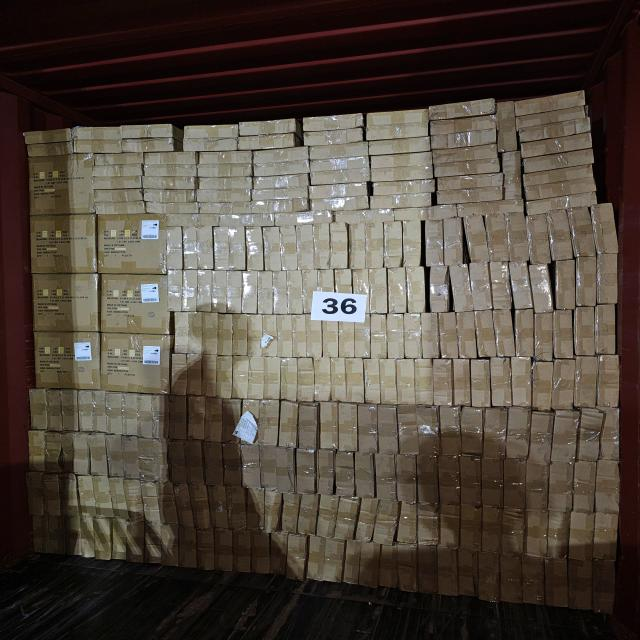Carton: (102, 332, 174, 392), (102, 274, 172, 334), (96, 213, 164, 274), (31, 216, 100, 276), (28, 156, 94, 215), (34, 272, 92, 330), (36, 331, 84, 388), (311, 144, 373, 184), (367, 112, 431, 143), (516, 88, 586, 116), (70, 332, 100, 390), (588, 203, 622, 254), (528, 192, 600, 216), (310, 186, 370, 214), (314, 537, 346, 583), (551, 412, 579, 464), (590, 558, 616, 613), (594, 459, 620, 514), (368, 147, 432, 169), (548, 462, 574, 514), (578, 410, 604, 462), (530, 410, 556, 462), (464, 214, 492, 262), (597, 354, 621, 408), (530, 206, 554, 260), (140, 394, 168, 440), (483, 408, 508, 458), (574, 461, 598, 513), (502, 460, 526, 512), (570, 512, 596, 560), (590, 515, 616, 563), (568, 559, 592, 611), (596, 255, 620, 307), (552, 358, 576, 408), (508, 410, 532, 460), (478, 552, 502, 602), (459, 408, 483, 458), (528, 462, 552, 512), (546, 558, 570, 608), (507, 210, 531, 260), (487, 212, 511, 262), (140, 441, 168, 483), (501, 555, 525, 603), (302, 112, 366, 130), (489, 356, 512, 406), (438, 547, 461, 597), (576, 356, 598, 408), (338, 316, 364, 360), (482, 457, 504, 508), (370, 178, 435, 195), (502, 508, 526, 554), (524, 512, 548, 558), (548, 514, 571, 562), (272, 448, 296, 494), (306, 536, 330, 582), (278, 224, 302, 270), (439, 456, 461, 506), (512, 358, 534, 408), (440, 408, 462, 458), (356, 402, 378, 452), (554, 260, 576, 310), (398, 544, 420, 594), (532, 361, 554, 411), (595, 304, 617, 354), (522, 556, 544, 606), (462, 458, 484, 508), (418, 406, 440, 455), (417, 456, 439, 505), (573, 309, 595, 358), (285, 534, 307, 582), (396, 454, 418, 502), (226, 224, 248, 272), (374, 501, 399, 543), (418, 544, 438, 596), (492, 312, 514, 359), (471, 358, 492, 407), (430, 266, 452, 312), (530, 265, 552, 311), (374, 456, 396, 502), (448, 266, 470, 312), (259, 401, 281, 447), (358, 542, 380, 588), (444, 220, 466, 266), (399, 406, 420, 454), (491, 263, 512, 311), (378, 405, 398, 455), (578, 258, 598, 308), (298, 404, 320, 449), (119, 137, 174, 155), (296, 451, 318, 495), (208, 487, 230, 531), (354, 456, 376, 500), (190, 486, 212, 530), (462, 508, 484, 552), (439, 505, 462, 547), (336, 498, 359, 540), (482, 506, 502, 554), (318, 402, 338, 450), (434, 358, 454, 406), (338, 404, 358, 452), (534, 312, 554, 360), (457, 312, 477, 360), (458, 550, 478, 598), (515, 310, 535, 358), (384, 220, 404, 268), (414, 358, 434, 406), (424, 215, 444, 263), (510, 262, 530, 310), (420, 312, 440, 360), (72, 136, 120, 156), (196, 162, 256, 178), (255, 160, 308, 178), (398, 359, 418, 406), (404, 220, 424, 267), (554, 311, 574, 358), (364, 222, 384, 269), (237, 399, 257, 446), (68, 124, 120, 142), (251, 148, 309, 164), (316, 496, 338, 538), (387, 268, 407, 314), (336, 452, 356, 498), (331, 224, 351, 270), (168, 395, 188, 441), (278, 402, 298, 448), (408, 267, 428, 313), (417, 503, 440, 543), (221, 399, 241, 445), (440, 313, 460, 359), (25, 136, 71, 156), (242, 443, 262, 488), (345, 358, 365, 403), (90, 432, 110, 477), (171, 442, 191, 487), (264, 226, 284, 271), (22, 126, 72, 144), (197, 188, 253, 204), (453, 358, 471, 407), (315, 450, 335, 494), (204, 442, 224, 486), (233, 530, 253, 574), (298, 494, 320, 534), (214, 528, 234, 572), (356, 498, 376, 542), (478, 313, 497, 359), (270, 532, 288, 580), (405, 312, 423, 360), (298, 224, 316, 272), (239, 120, 293, 136), (119, 124, 173, 140), (60, 474, 80, 517), (314, 224, 332, 271), (196, 528, 216, 570), (228, 487, 248, 529), (76, 475, 96, 517), (246, 229, 266, 271), (166, 227, 186, 269), (224, 442, 243, 486), (251, 530, 270, 574), (185, 440, 204, 484), (335, 268, 354, 312), (92, 521, 111, 565), (380, 544, 398, 590), (380, 358, 398, 404), (319, 268, 337, 314), (352, 270, 370, 316), (348, 222, 366, 268), (364, 360, 382, 406), (261, 444, 279, 490), (344, 541, 362, 587), (387, 314, 405, 359), (280, 356, 298, 401), (298, 358, 316, 403), (280, 494, 300, 534), (48, 516, 68, 556), (246, 489, 265, 531), (398, 505, 419, 543), (314, 358, 332, 402), (188, 398, 206, 442), (173, 351, 191, 395), (233, 356, 251, 400), (205, 398, 223, 442), (248, 356, 266, 400), (46, 472, 64, 516), (371, 314, 388, 360), (371, 269, 388, 315), (266, 489, 284, 532), (92, 475, 110, 518), (196, 226, 213, 271), (216, 314, 234, 356), (46, 429, 64, 471), (255, 272, 273, 314), (178, 526, 196, 568), (79, 390, 97, 432), (61, 392, 79, 434), (65, 520, 83, 562), (72, 434, 90, 476), (109, 434, 127, 476), (30, 389, 48, 431), (184, 124, 238, 138), (144, 152, 198, 166), (94, 176, 144, 191), (216, 354, 233, 398), (227, 270, 244, 314), (240, 270, 257, 314), (304, 316, 321, 360), (195, 152, 252, 165), (28, 432, 46, 473), (96, 163, 142, 179), (202, 312, 219, 355), (233, 315, 250, 357), (287, 270, 303, 314), (290, 314, 306, 358), (266, 357, 282, 401), (277, 314, 293, 358), (274, 270, 290, 314), (198, 270, 214, 314), (212, 225, 228, 269), (142, 164, 196, 177), (94, 150, 144, 164), (202, 354, 218, 397), (48, 390, 64, 432), (189, 354, 205, 396), (247, 314, 263, 356), (182, 269, 198, 311), (188, 311, 204, 353), (183, 226, 199, 268), (321, 321, 339, 358), (173, 312, 189, 352)
